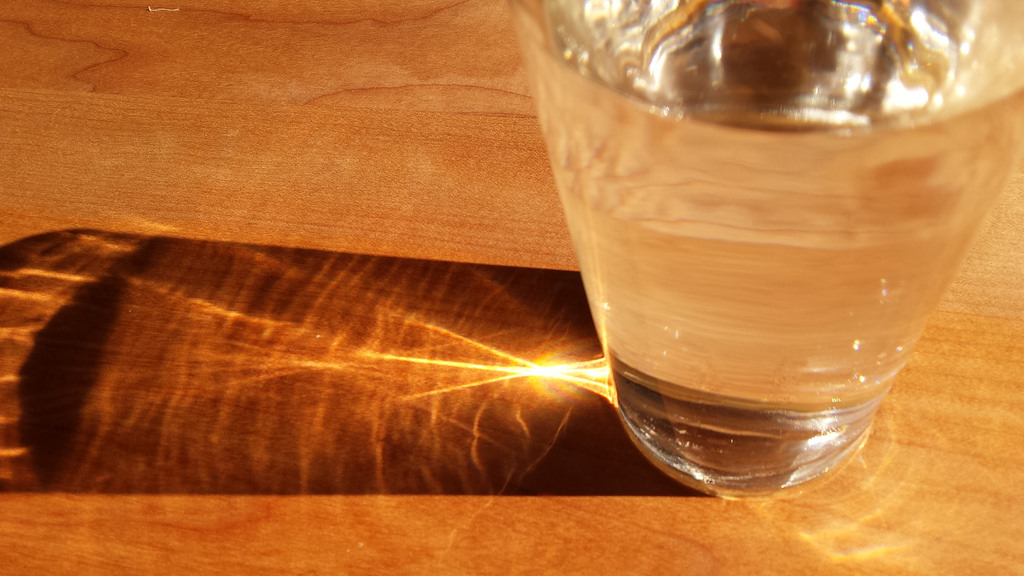glass of water: (518, 1, 1017, 491)
